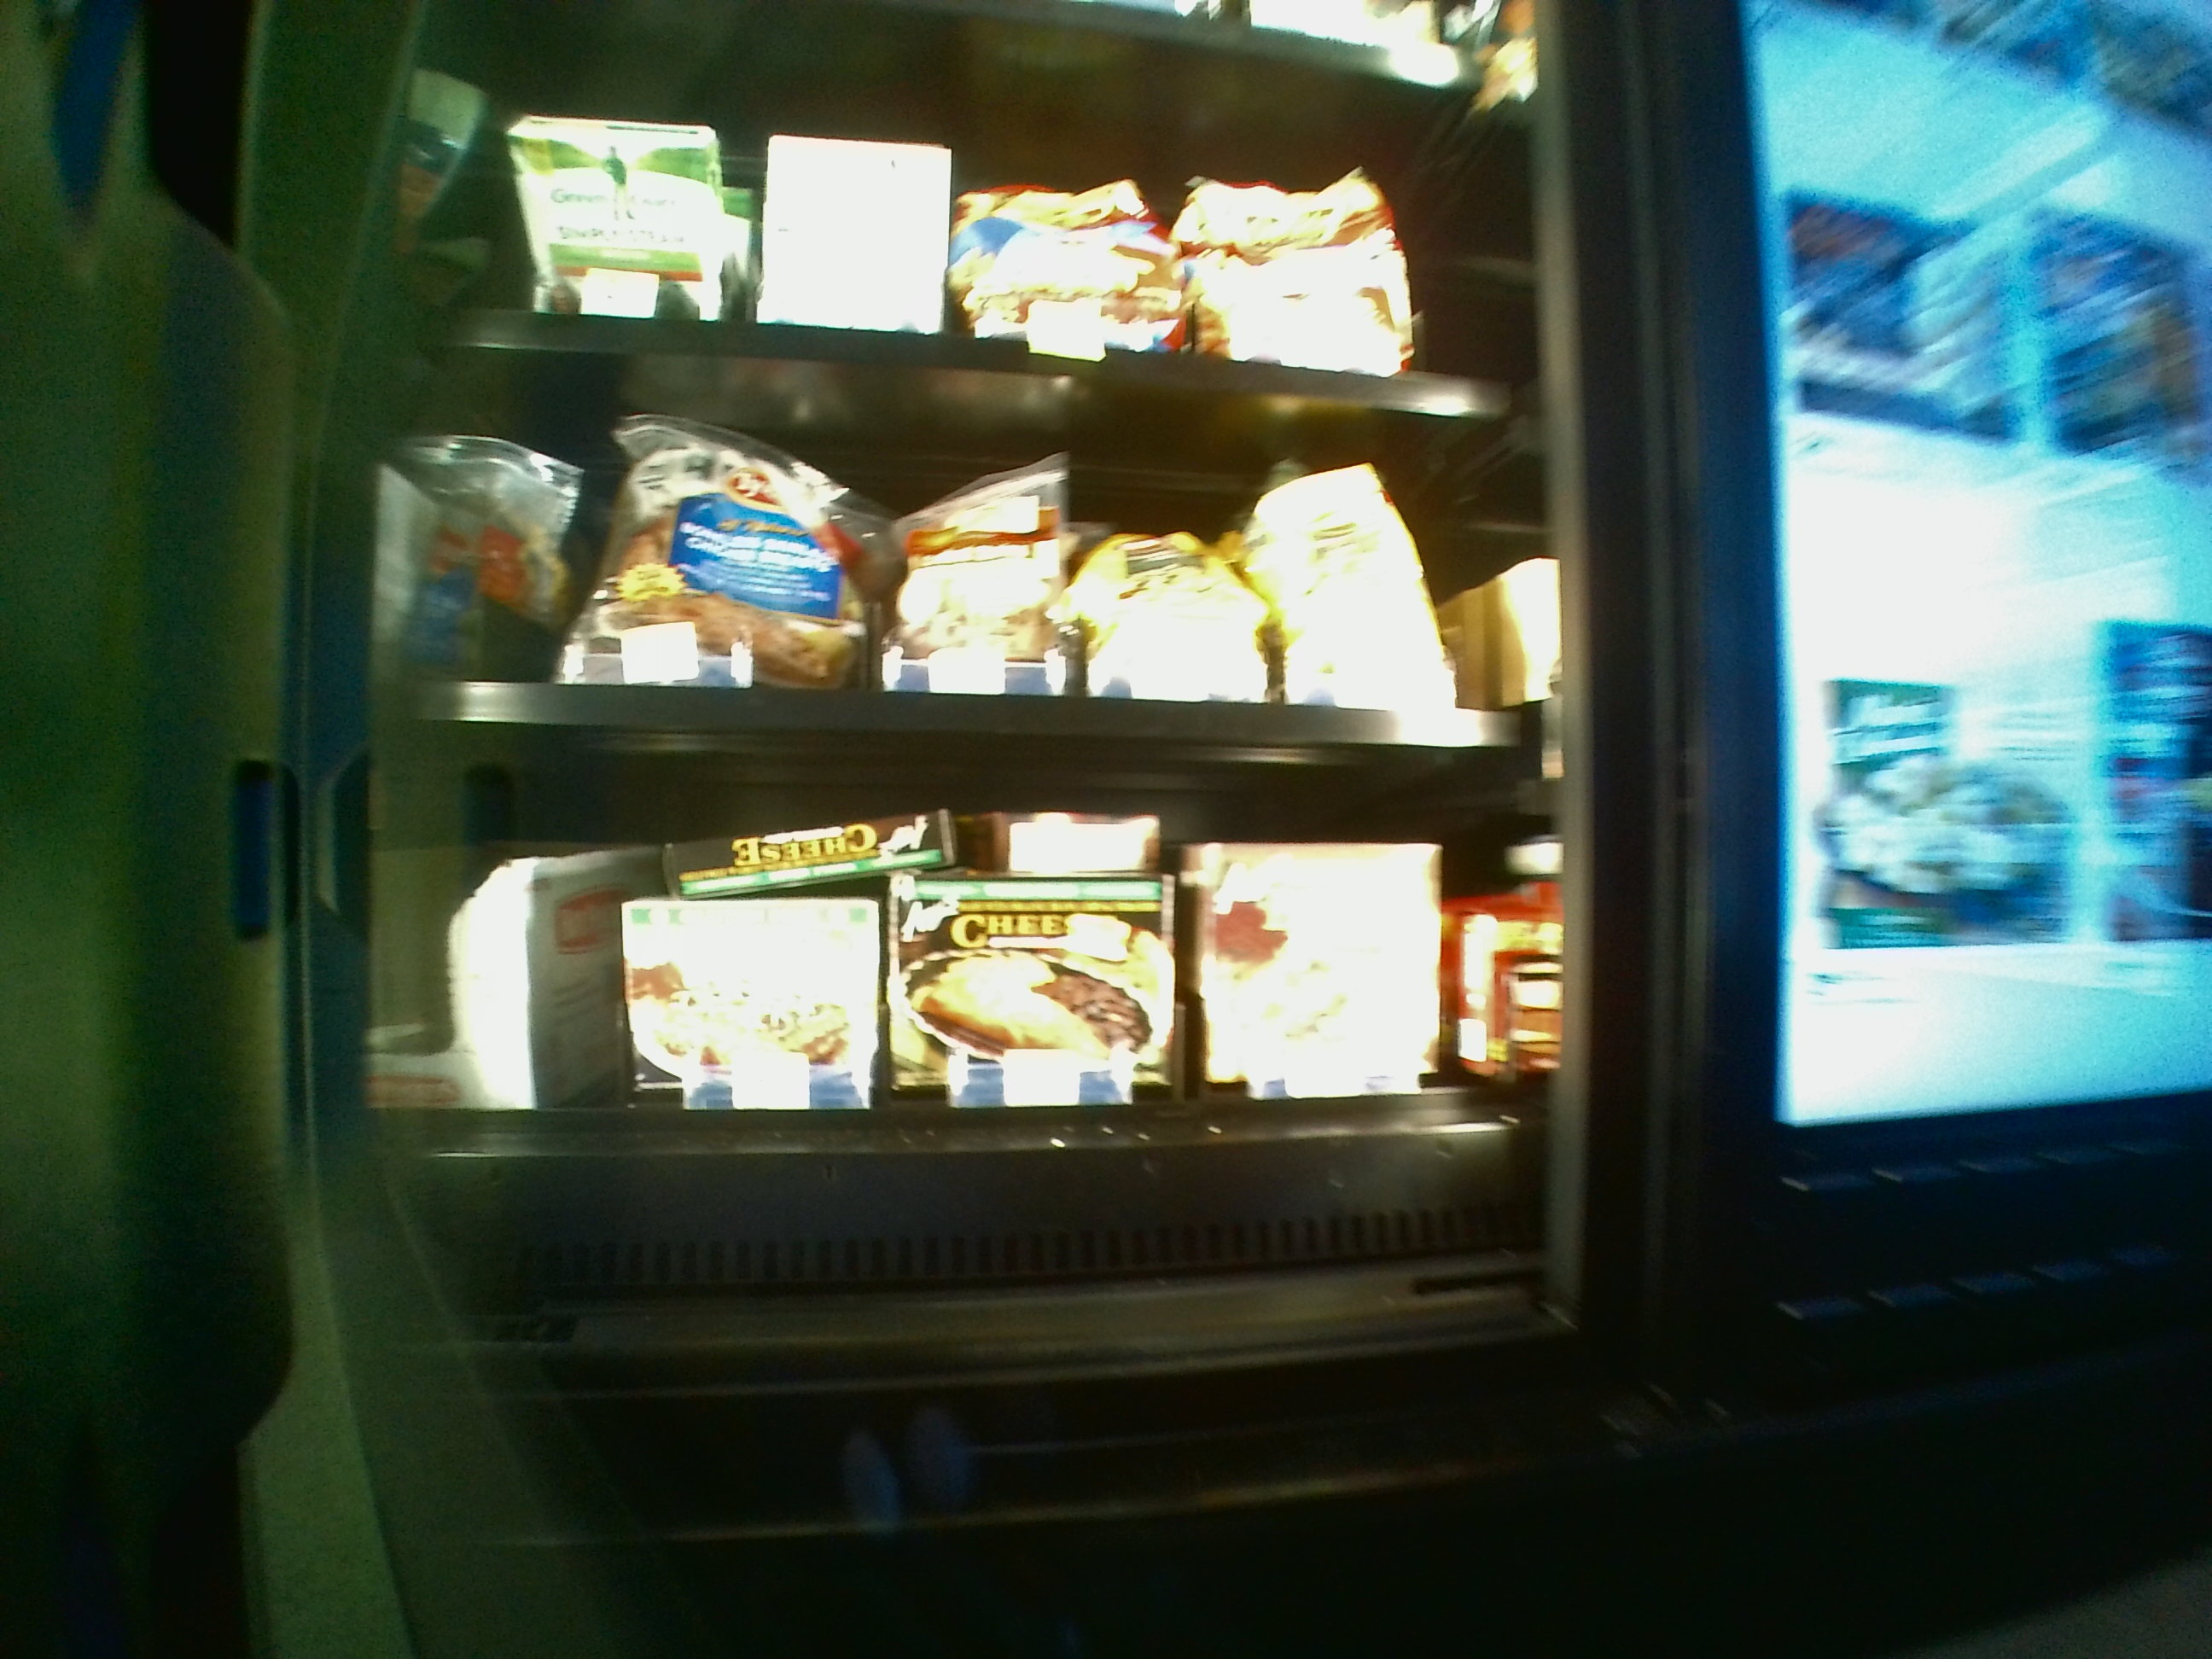shelf: (387, 753, 1545, 1326), (401, 347, 1538, 748)
